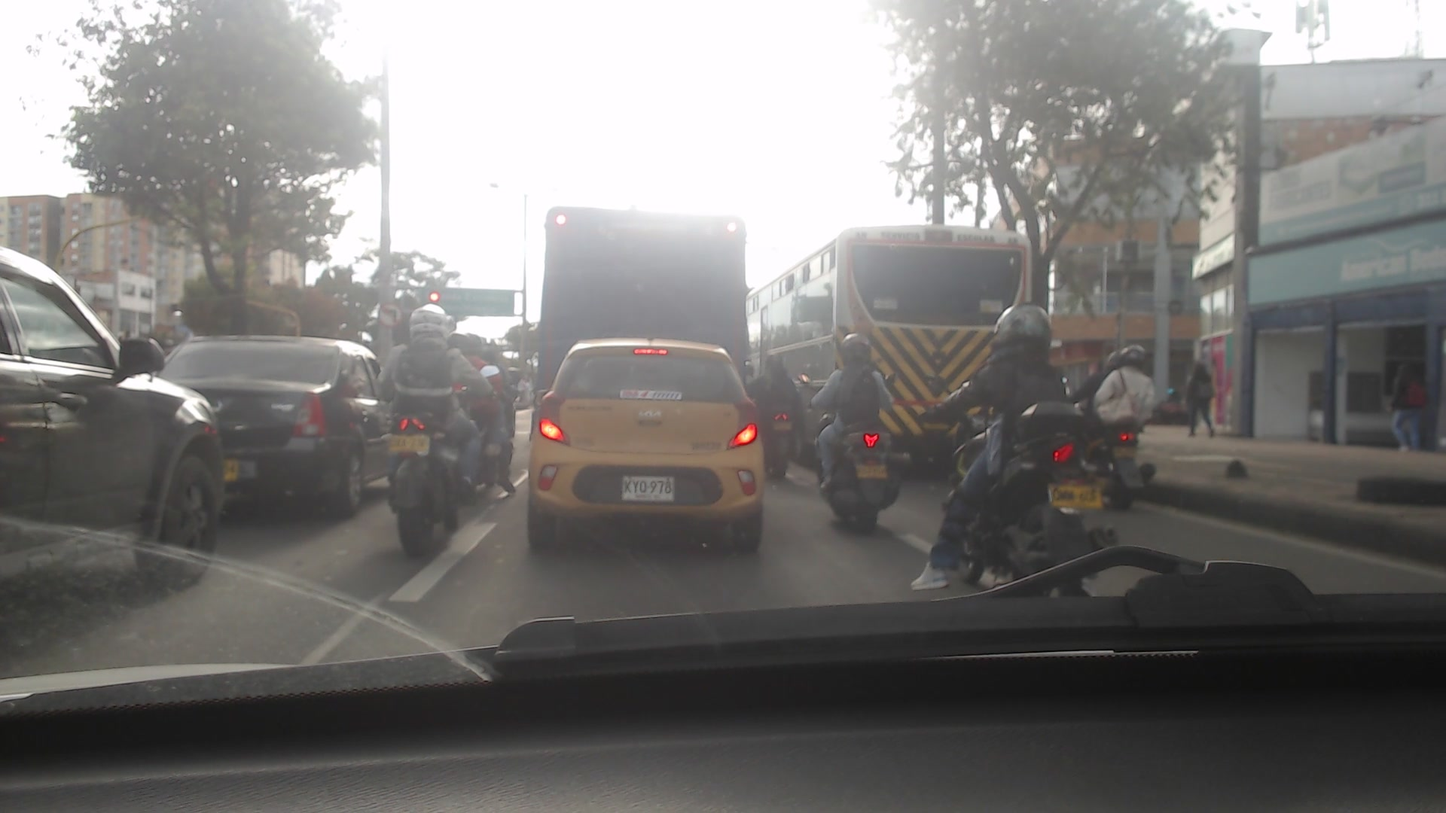bus: (742, 230, 1030, 455)
car: (0, 248, 226, 575), (520, 337, 768, 551), (147, 329, 396, 506)
person: (941, 306, 1060, 500), (380, 302, 485, 491), (812, 333, 904, 446), (1176, 359, 1232, 443), (1109, 347, 1159, 431), (1387, 362, 1430, 455), (758, 351, 801, 443), (1065, 348, 1116, 424)
truck: (538, 201, 758, 358)
